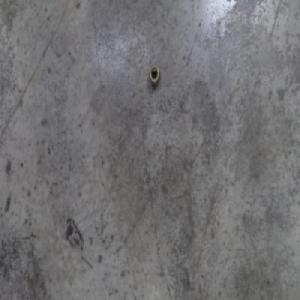Nut: (148, 63, 161, 88)
